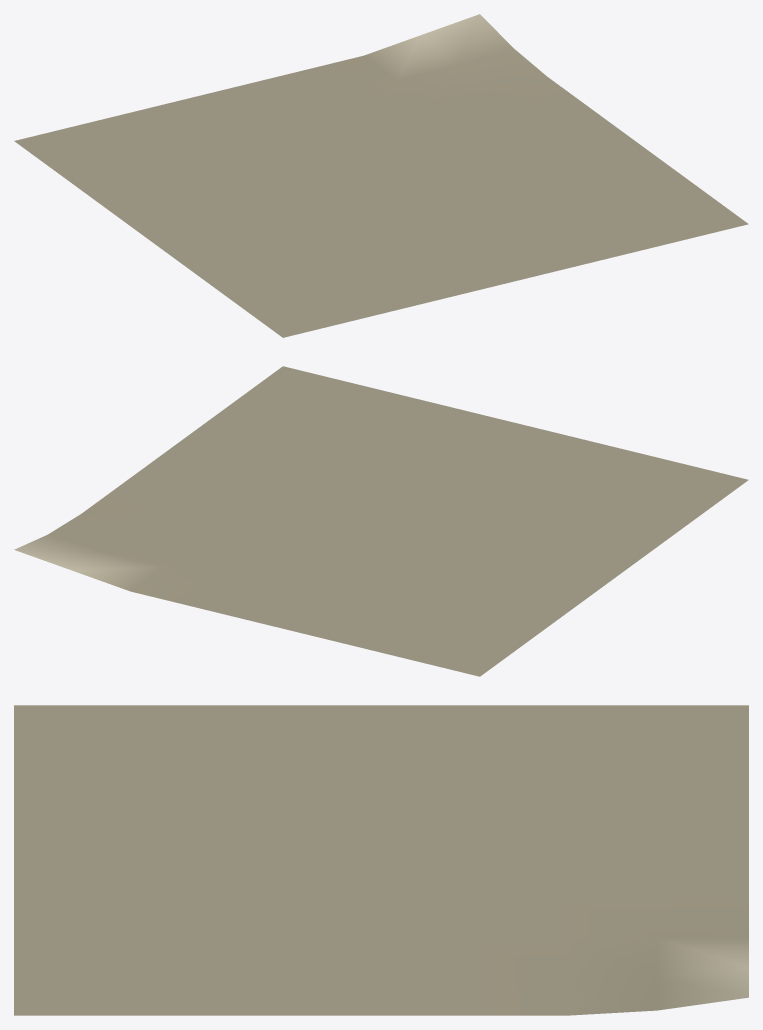
3 renders of one model, top to bottom at view 1: azimuth 30°, elevation 25°; view 2: azimuth 150°, elevation 25°; view 3: azimuth 270°, elevation 25°, orthographic. The views are drawn at different scales.
Parts seen in each view (by area): view 1: Lo; view 2: Lo; view 3: Lo.
Boxes of the visible parts, box(x1,y1,x2,y2) form: Lo: box(14, 14, 748, 337); Lo: box(14, 366, 748, 676); Lo: box(14, 705, 748, 1015).
Size of the model in its own units: 256 by 6.97 by 256.
